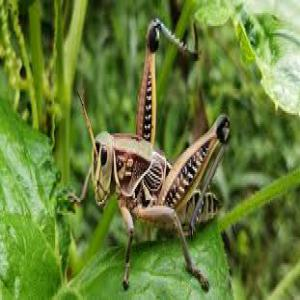locust: (66, 36, 236, 294)
